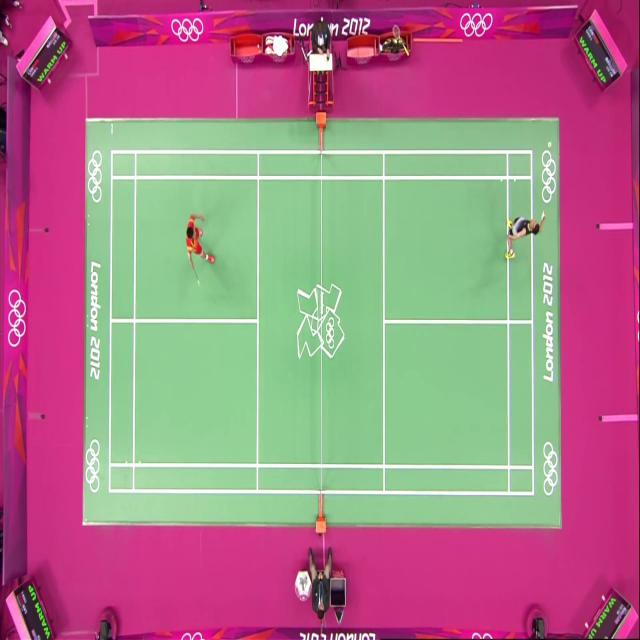Net: (312, 115, 332, 542)
Player1: (502, 194, 552, 284)
Player2: (177, 192, 223, 291)
